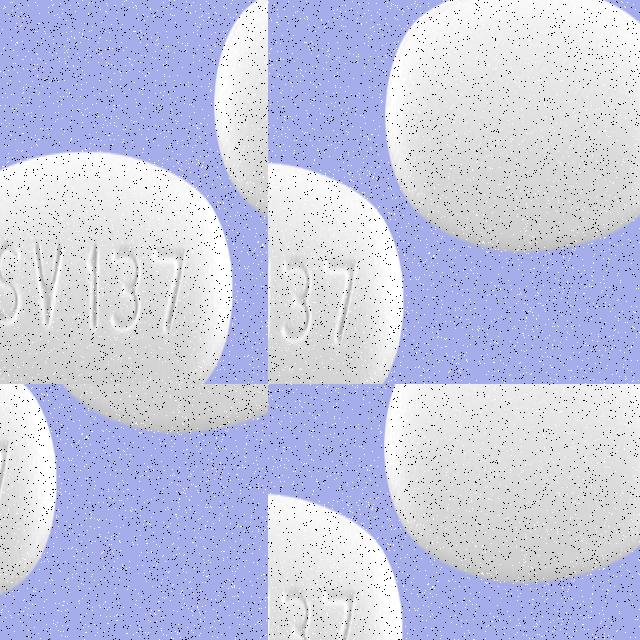Aris: (110, 250, 268, 384)
Claxin: (0, 426, 154, 640)
Cycin: (387, 0, 640, 239), (268, 159, 408, 384)
Dovato: (383, 384, 640, 583), (268, 491, 403, 640)
